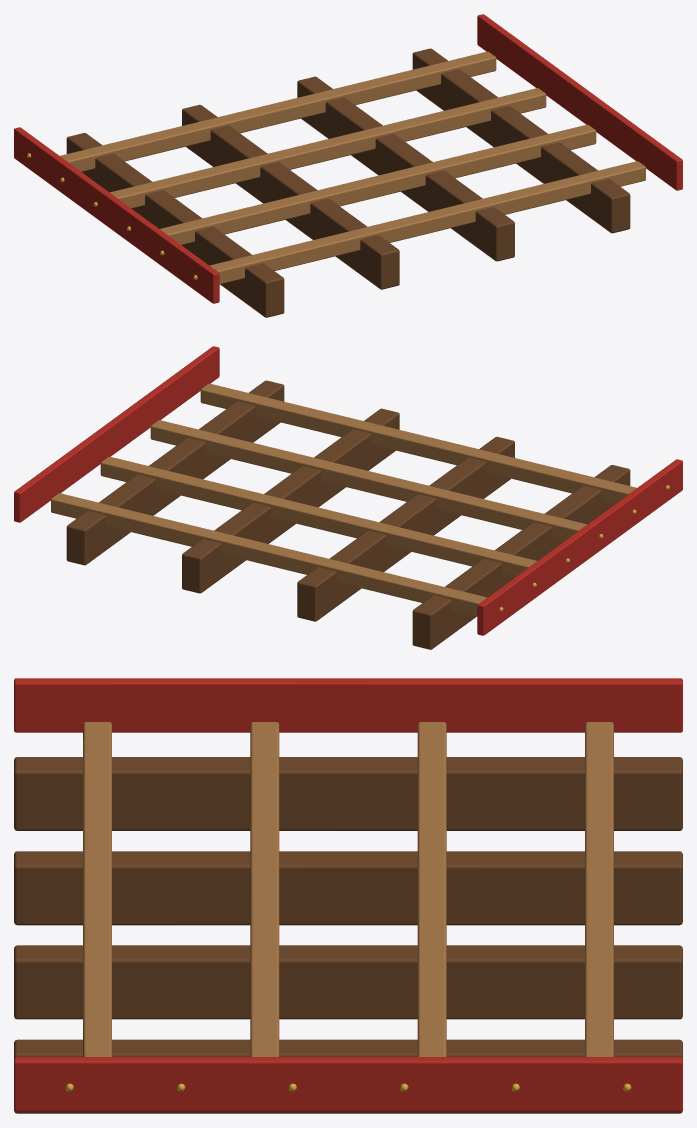
File: rt_timber_bay.glb
3 renders of one model, top to bottom at view 1: azimuth 30°, elevation 25°; view 2: azimuth 150°, elevation 25°; view 3: azimuth 270°, elevation 25°, orthographic. The views are drawn at different scales.
Parts seen in each view (by area): view 1: rt_timber_bay_body; view 2: rt_timber_bay_body; view 3: rt_timber_bay_body.
Part boxes in pixels (bbox=[...]): rt_timber_bay_body: bbox=[14, 14, 682, 317]; rt_timber_bay_body: bbox=[14, 346, 682, 649]; rt_timber_bay_body: bbox=[14, 678, 682, 1113].
Bounding box in the file's own units: 8.25 × 0.95 × 6.
